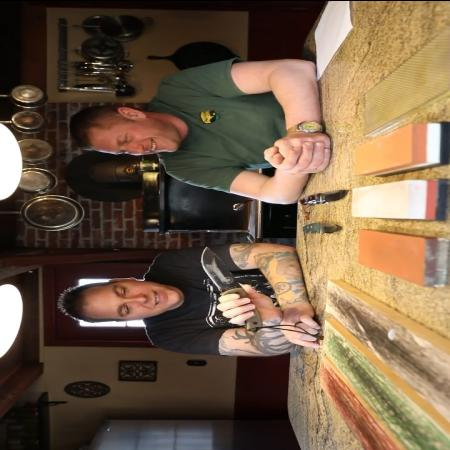long weapon: (188, 240, 260, 318)
